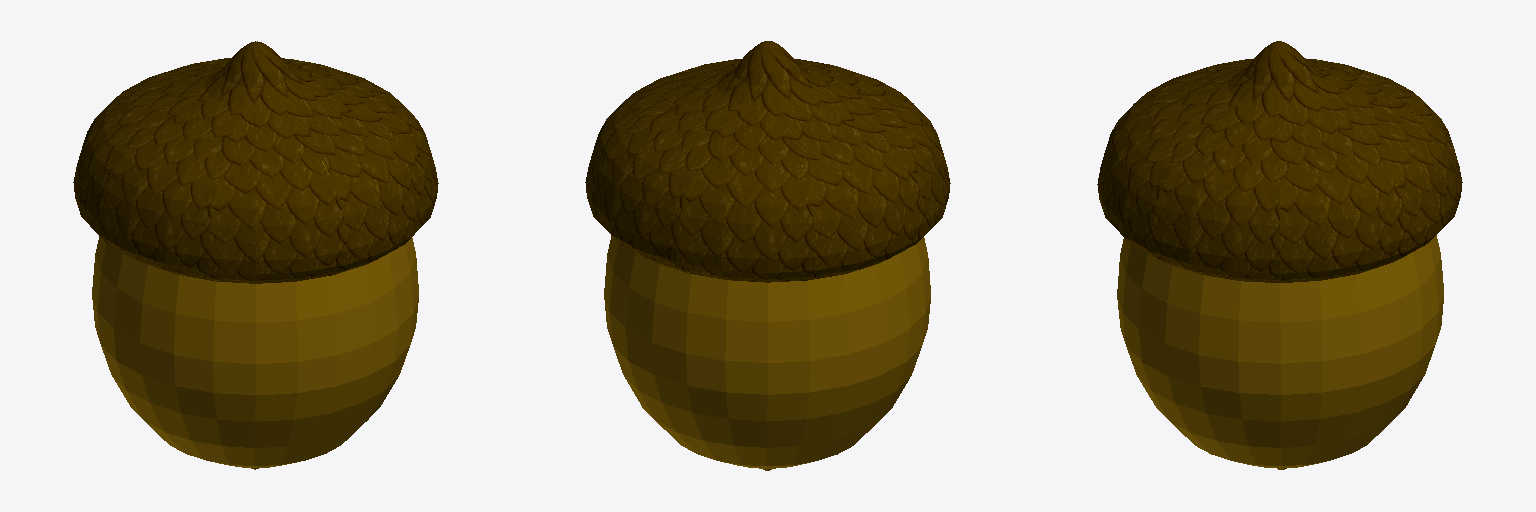
The picture shows the model from 3 angles: view 1: azimuth 30°, elevation 25°; view 2: azimuth 150°, elevation 25°; view 3: azimuth 270°, elevation 25°; orthographic projection.
Visible parts, largest first — view 1: acorn_head_Sphere.001, acorn_body_Sphere; view 2: acorn_head_Sphere.001, acorn_body_Sphere; view 3: acorn_head_Sphere.001, acorn_body_Sphere.
Part boxes in pixels (left/top/right/bottom): acorn_head_Sphere.001: left=73, top=41, right=438, bottom=283; acorn_body_Sphere: left=92, top=140, right=418, bottom=469; acorn_head_Sphere.001: left=585, top=41, right=950, bottom=282; acorn_body_Sphere: left=604, top=139, right=930, bottom=470; acorn_head_Sphere.001: left=1097, top=41, right=1462, bottom=282; acorn_body_Sphere: left=1117, top=169, right=1443, bottom=469.
Bounding box in the file's own units: 0.8258 × 1.07 × 0.8258.
Materials: 2 (1 with a texture image).